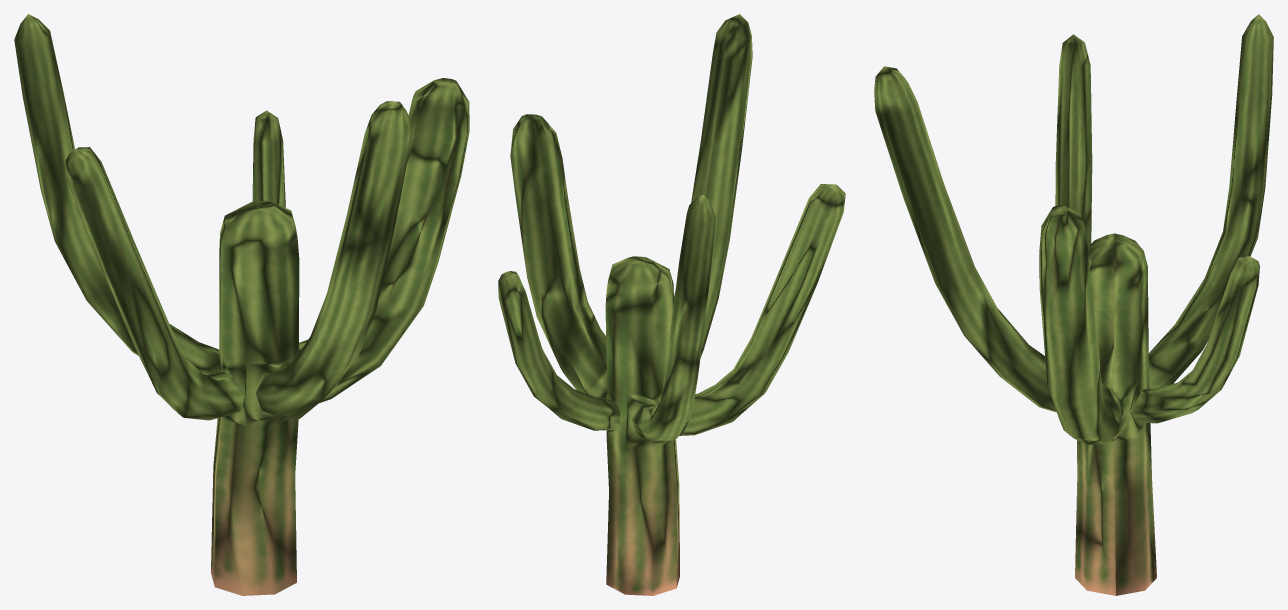
The model's file is cactus---pack-588596.glb.
3 renders of one model, left to right at view 1: azimuth 30°, elevation 25°; view 2: azimuth 150°, elevation 25°; view 3: azimuth 270°, elevation 25°, orthographic. The views are drawn at different scales.
Parts seen in each view (by area): view 1: PropMesh; view 2: PropMesh; view 3: PropMesh.
Part boxes in pixels (bbox=[...]): PropMesh: bbox=[14, 14, 469, 595]; PropMesh: bbox=[498, 14, 845, 595]; PropMesh: bbox=[874, 14, 1273, 595].
Bounding box in the file's own units: 1.09 × 1.5 × 1.05.
Materials: 1 (1 with a texture image).
